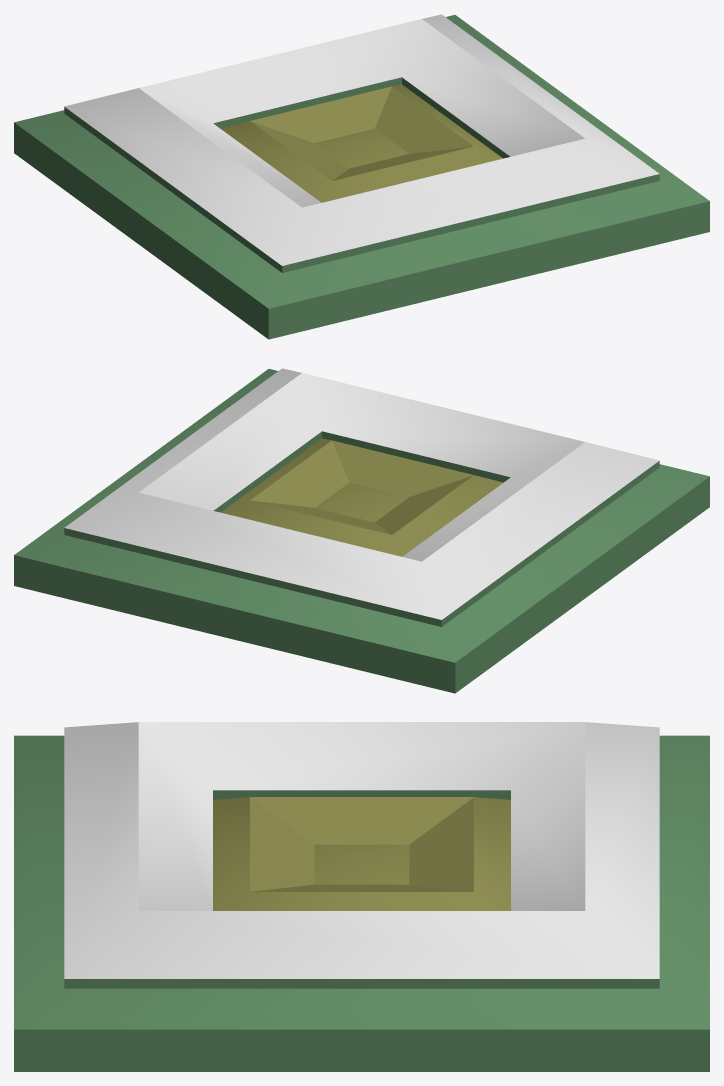
3 renders of one model, top to bottom at view 1: azimuth 30°, elevation 25°; view 2: azimuth 150°, elevation 25°; view 3: azimuth 270°, elevation 25°, orthographic. The views are drawn at different scales.
Parts seen in each view (by area): view 1: pCube1; view 2: pCube1; view 3: pCube1.
Part boxes in pixels (x1,y1,x2,y2): pCube1: [14, 14, 709, 339]; pCube1: [14, 368, 709, 693]; pCube1: [14, 722, 709, 1071].
Size of the model in its own units: 3 by 0.515 by 3.
